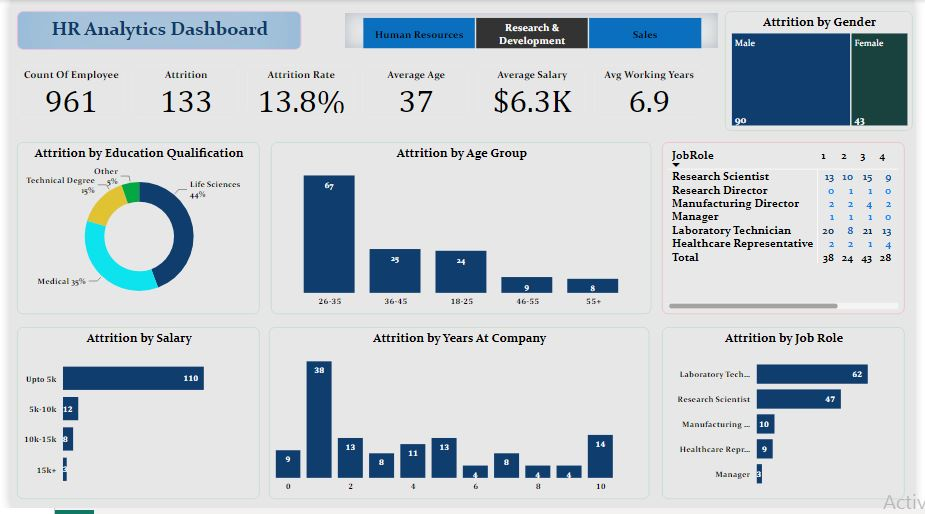

This screenshot's page, from the dashboard's own definition file:
{"tool":"powerbi","page":{"name":"Page 1","canvas":[1280,720],"ordinal":0},"visuals":[{"type":"card","title":"Count Of Employee","fields":{"Values":["HR_Analytics.Total Employee"]},"box":[9.9,92.1,151.7,75.1],"z":0},{"type":"card","title":"Attrition","fields":{"Values":["Sum(HR_Analytics.AttritionCount)"]},"box":[172.9,92.1,151.7,75.1],"z":1000},{"type":"card","title":"Attrition Rate","fields":{"Values":["HR_Analytics.AttritionRate"]},"box":[335.9,92.1,151.7,75.1],"z":2000},{"type":"card","title":"Average Age","fields":{"Values":["HR_Analytics.Average Age"]},"box":[498.9,92.1,151.7,75.1],"z":3000},{"type":"card","title":"Average Salary","fields":{"Values":["Avg(HR_Analytics.MonthlyIncome)"]},"box":[663.3,92.1,151.7,75.1],"z":4000},{"type":"card","title":"Avg Working Years","fields":{"Values":["Avg(HR_Analytics.YearsAtCompany)"]},"box":[828,92,154.5,75],"z":5000},{"type":"donutChart","title":"Attrition by Education Qualification","fields":{"Category":["HR_Analytics.EducationField"],"Y":["Sum(HR_Analytics.AttritionCount)"]},"box":[9.9,201.3,344.4,243.8],"z":6000},{"type":"columnChart","title":"Attrition by Age Group","fields":{"Category":["HR_Analytics.AgeGroup"],"Y":["Sum(HR_Analytics.AttritionCount)"]},"box":[369.9,201.3,539,243.8],"z":7000},{"type":"pivotTable","fields":{"Rows":["HR_Analytics.JobRole"],"Columns":["HR_Analytics.JobSatisfaction"],"Values":["Sum(HR_Analytics.AttritionCount)"]},"box":[924.1,201.3,344.4,243.8],"z":8000},{"type":"barChart","title":"Attrition by Salary","fields":{"Category":["HR_Analytics.SalarySlab"],"Y":["Sum(HR_Analytics.AttritionCount)"]},"box":[9.9,463.5,344.4,243.8],"z":9000},{"type":"barChart","title":"Attrition by Job Role","fields":{"Y":["Sum(HR_Analytics.AttritionCount)"],"Category":["HR_Analytics.JobRole"]},"box":[924.1,463.5,344.4,243.8],"z":10000},{"type":"columnChart","title":"Attrition by Years At Company","fields":{"Category":["HR_Analytics.YearsAtCompany"],"Y":["Sum(HR_Analytics.AttritionCount)"]},"box":[367.1,463.5,538.6,243.8],"z":11000},{"type":"treemap","title":"Attrition by Gender","fields":{"Values":["Sum(HR_Analytics.AttritionCount)"],"Group":["HR_Analytics.Gender"]},"box":[1013.4,15.6,266.5,170.1],"z":12000},{"type":"slicer","fields":{"Values":["HR_Analytics.Department"]},"box":[474.8,18.4,528.7,49.6],"z":13000},{"type":"textbox","box":[9.9,15.6,402.5,55.3],"z":14000}]}

Visuals, with their boxes in screenshot pixels (x1, y1, x2, y2), scaled from the page's 1280x720 canvas onto the 925x514 screenshot:
"Count Of Employee" card: region(7, 66, 117, 119)
"Attrition" card: region(125, 66, 235, 119)
"Attrition Rate" card: region(243, 66, 352, 119)
"Average Age" card: region(361, 66, 470, 119)
"Average Salary" card: region(479, 66, 589, 119)
"Avg Working Years" card: region(598, 66, 710, 119)
"Attrition by Education Qualification" donutChart: region(7, 144, 256, 318)
"Attrition by Age Group" columnChart: region(267, 144, 657, 318)
pivotTable - HR_Analytics.JobRole x HR_Analytics.JobSatisfaction: region(668, 144, 917, 318)
"Attrition by Salary" barChart: region(7, 331, 256, 505)
"Attrition by Job Role" barChart: region(668, 331, 917, 505)
"Attrition by Years At Company" columnChart: region(265, 331, 655, 505)
"Attrition by Gender" treemap: region(732, 11, 924, 133)
slicer - HR_Analytics.Department: region(343, 13, 725, 49)
textbox: region(7, 11, 298, 51)
